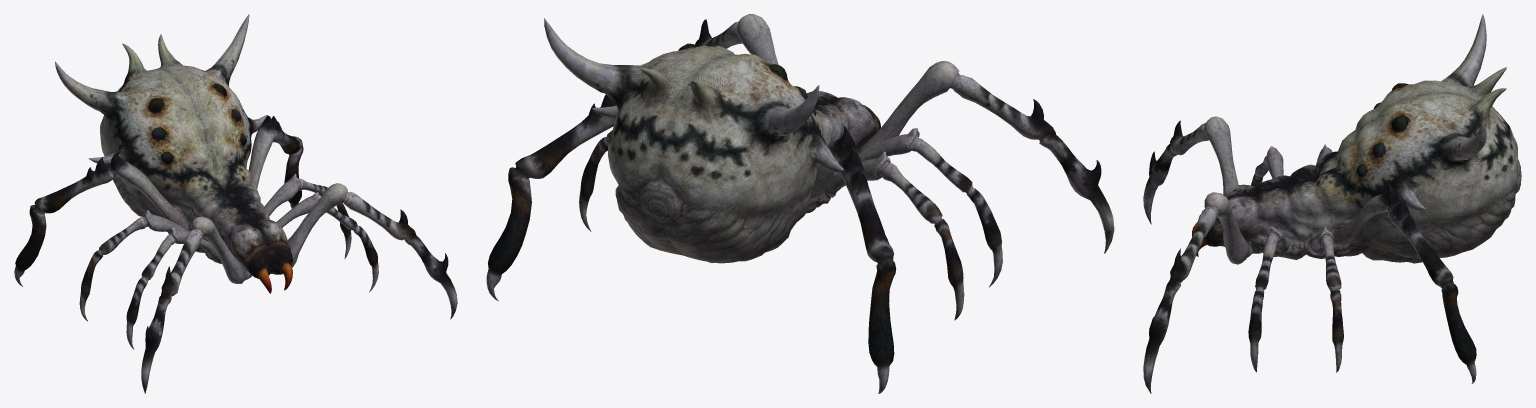
File: pet-1114.glb
3 views of the same model, side by side, from view 1: azimuth 30°, elevation 25°; view 2: azimuth 150°, elevation 25°; view 3: azimuth 270°, elevation 25° (orthographic). The views are drawn at different scales.
Visible parts, largest first — view 1: VEH_OdSpider_03; view 2: VEH_OdSpider_03; view 3: VEH_OdSpider_03.
Part boxes in pixels (box(x1,y1,x2,y2)): VEH_OdSpider_03: box(14, 14, 457, 393); VEH_OdSpider_03: box(486, 14, 1114, 393); VEH_OdSpider_03: box(1143, 14, 1521, 393).
Size of the model in its own units: 1.61 by 1.04 by 1.48.
1 material, 1 textured.
